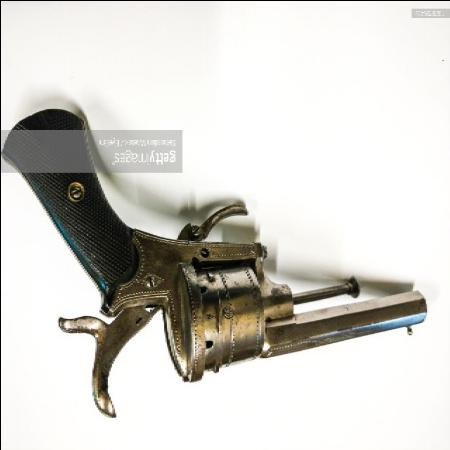Pistol: (1, 109, 429, 425)
